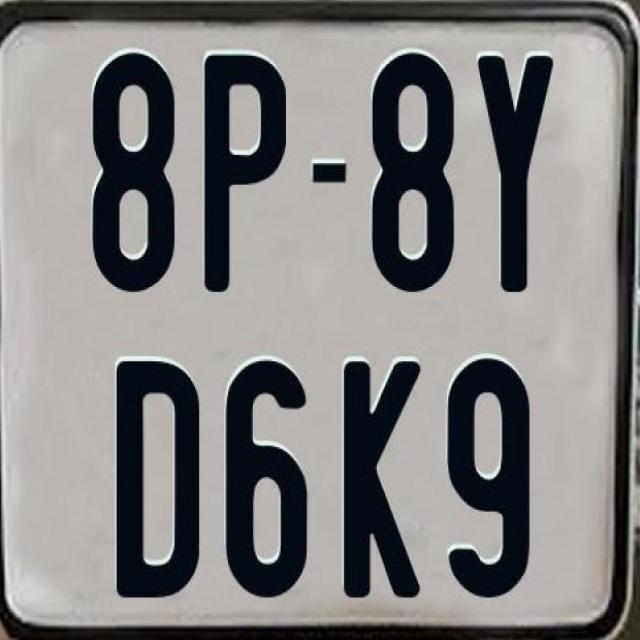license-plate: (10, 12, 636, 640)
